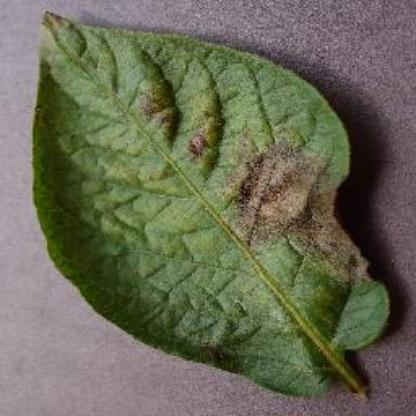Late-Blight: (6, 8, 392, 408), (366, 358, 372, 368)
